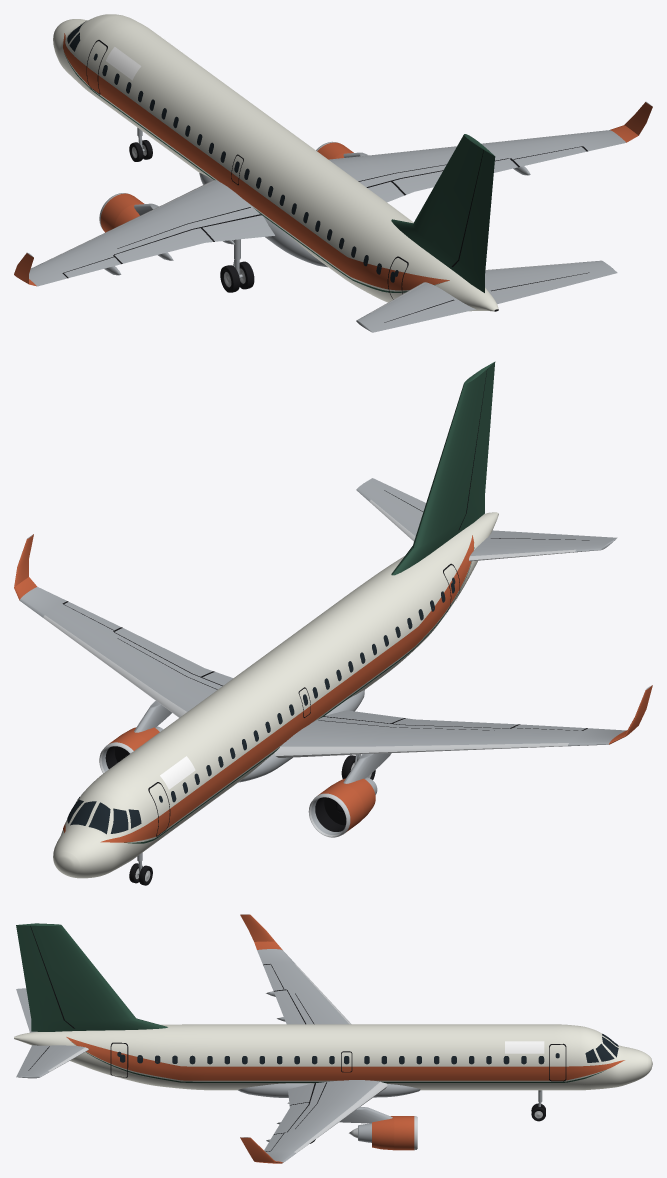
File: jaz-90.glb
The picture shows the model from 3 angles, top to bottom: view 1: azimuth 30°, elevation 25°; view 2: azimuth 150°, elevation 25°; view 3: azimuth 270°, elevation 25°; orthographic projection. The views are drawn at different scales.
Visible parts, largest first — view 1: fuselaje, ala, cintura, deriva, estabilizador, timon-de-direccion-piel, franja-fija, ventanillas, motor, flap-fuera-izquierda-piel, profundidad-derecha-piel, carenado (+7 smaller); view 2: fuselaje, ala, deriva, cintura, estabilizador, motor, timon-de-direccion-piel, pilon, ventanillas, franja-fija, carenado, flap-fuera-derecha-piel (+2 smaller); view 3: fuselaje, cintura, ala, deriva, timon-de-direccion-piel, estabilizador, motor, ventanillas, carenado, motor-manguito, flap-fuera-izquierda-piel, cintura-fina (+4 smaller).
Boxes of the visible parts, <box> form: fuselaje: <box>53,14,498,311</box>; ala: <box>14,101,652,286</box>; cintura: <box>63,33,449,290</box>; deriva: <box>391,134,494,292</box>; estabilizador: <box>356,260,617,332</box>; timon-de-direccion-piel: <box>459,150,495,275</box>; franja-fija: <box>117,157,499,252</box>; ventanillas: <box>102,65,395,282</box>; motor: <box>99,141,353,232</box>; flap-fuera-izquierda-piel: <box>114,230,201,263</box>; profundidad-derecha-piel: <box>491,273,595,302</box>; carenado: <box>199,173,327,267</box>; fuselaje: <box>53,512,498,878</box>; ala: <box>14,534,652,757</box>; deriva: <box>391,362,494,575</box>; cintura: <box>63,535,474,842</box>; estabilizador: <box>356,478,617,561</box>; motor: <box>99,726,377,837</box>; timon-de-direccion-piel: <box>467,362,495,512</box>; pilon: <box>134,701,391,783</box>; ventanillas: <box>171,582,454,802</box>; franja-fija: <box>117,636,498,730</box>; carenado: <box>238,690,364,782</box>; flap-fuera-derecha-piel: <box>114,628,201,671</box>; fuselaje: <box>14,1024,652,1090</box>; cintura: <box>66,1037,624,1080</box>; ala: <box>240,914,387,1163</box>; deriva: <box>19,923,167,1031</box>; timon-de-direccion-piel: <box>16,925,63,1019</box>; estabilizador: <box>16,988,88,1078</box>; motor: <box>349,1116,417,1150</box>; ventanillas: <box>120,1054,544,1064</box>; carenado: <box>238,1083,420,1097</box>; motor-manguito: <box>372,1116,394,1150</box>; flap-fuera-izquierda-piel: <box>274,990,304,1024</box>; cintura-fina: <box>72,1042,605,1082</box>.
Bounding box in the file's own units: 26.03 × 10.64 × 31.5.
